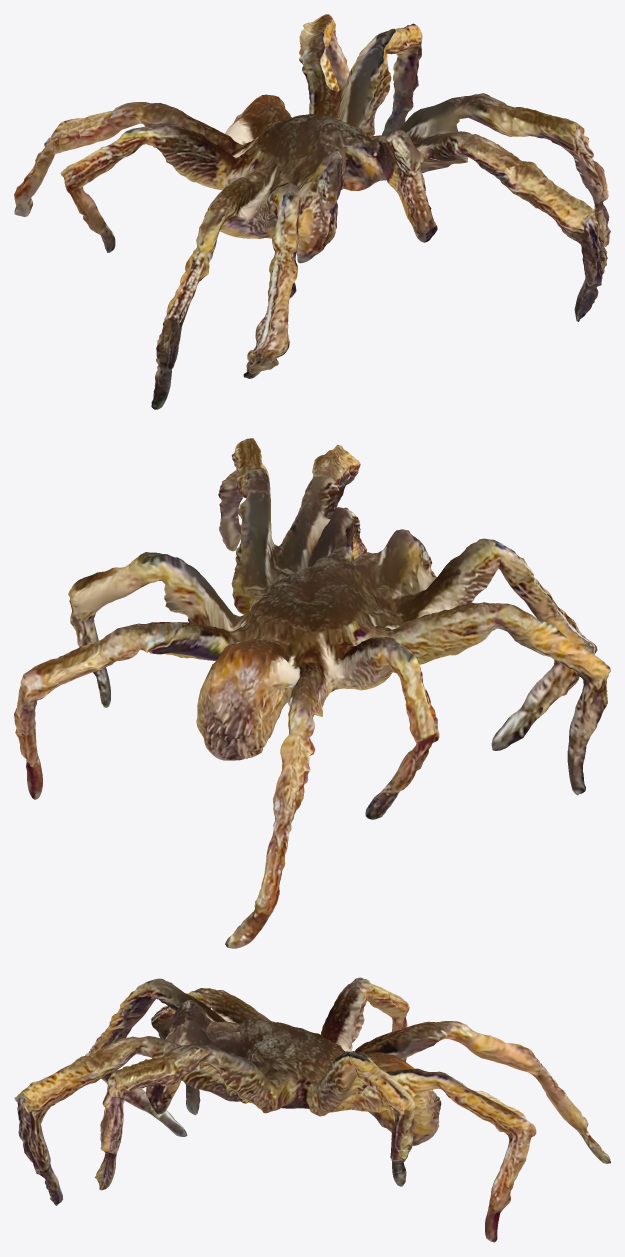
The model's file is nm__pinktoe.glb.
3 renders of one model, top to bottom at view 1: azimuth 30°, elevation 25°; view 2: azimuth 150°, elevation 25°; view 3: azimuth 270°, elevation 25°, orthographic. The views are drawn at different scales.
Parts seen in each view (by area): view 1: Object_4; view 2: Object_4; view 3: Object_4.
Boxes of the visible parts, x1=… form: Object_4: x1=14, y1=14, x2=610, y2=409; Object_4: x1=14, y1=438, x2=610, y2=948; Object_4: x1=14, y1=977, x2=610, y2=1242.
Bounding box in the file's own units: 0.5384 × 0.2994 × 0.771.
Materials: 1 (1 with a texture image).
